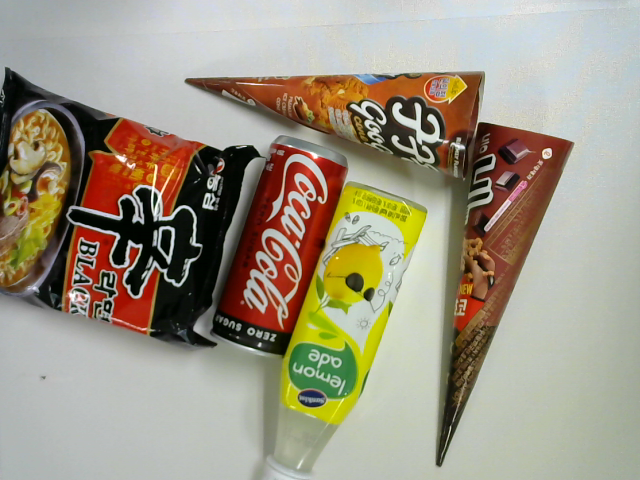Coca_Cola_Zero_Can_250ml: (210, 134, 350, 359)
GooGoo_Cone_CVS: (182, 69, 487, 182)
Sinramen_Black: (1, 65, 263, 348)
Sunkist_Lemonaid_Pet: (266, 179, 430, 480)
World_Cone_Choco: (435, 123, 577, 469)
